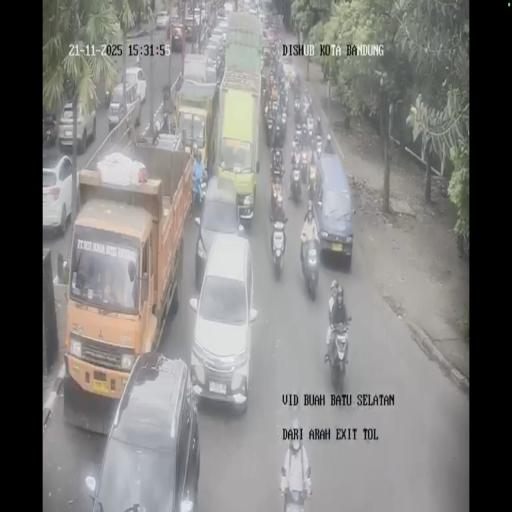car: (194, 174, 242, 284), (311, 153, 354, 266), (42, 154, 79, 238), (58, 96, 96, 154), (107, 80, 141, 136), (203, 40, 224, 80), (170, 20, 184, 48), (215, 17, 230, 41), (155, 10, 169, 30), (266, 26, 278, 44), (192, 11, 202, 30), (196, 2, 208, 16), (216, 3, 226, 18), (258, 11, 266, 26), (248, 4, 257, 14)
motorcycle: (326, 319, 350, 388), (300, 239, 320, 298), (270, 218, 287, 278), (270, 178, 286, 220), (271, 110, 286, 150), (307, 158, 320, 200), (288, 166, 302, 202), (298, 148, 310, 183), (198, 166, 208, 208), (287, 68, 300, 94), (302, 90, 312, 118), (306, 112, 314, 136), (315, 133, 323, 157), (262, 47, 272, 66), (104, 86, 112, 109), (294, 95, 300, 121)
truck: (63, 140, 192, 418), (172, 64, 218, 177)
